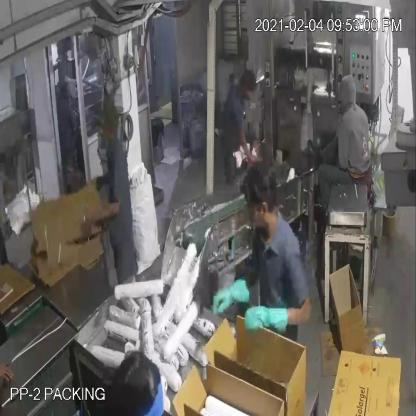glove: (208, 270, 256, 316), (238, 296, 290, 338)
no_glove: (234, 112, 265, 187), (76, 190, 132, 230)
